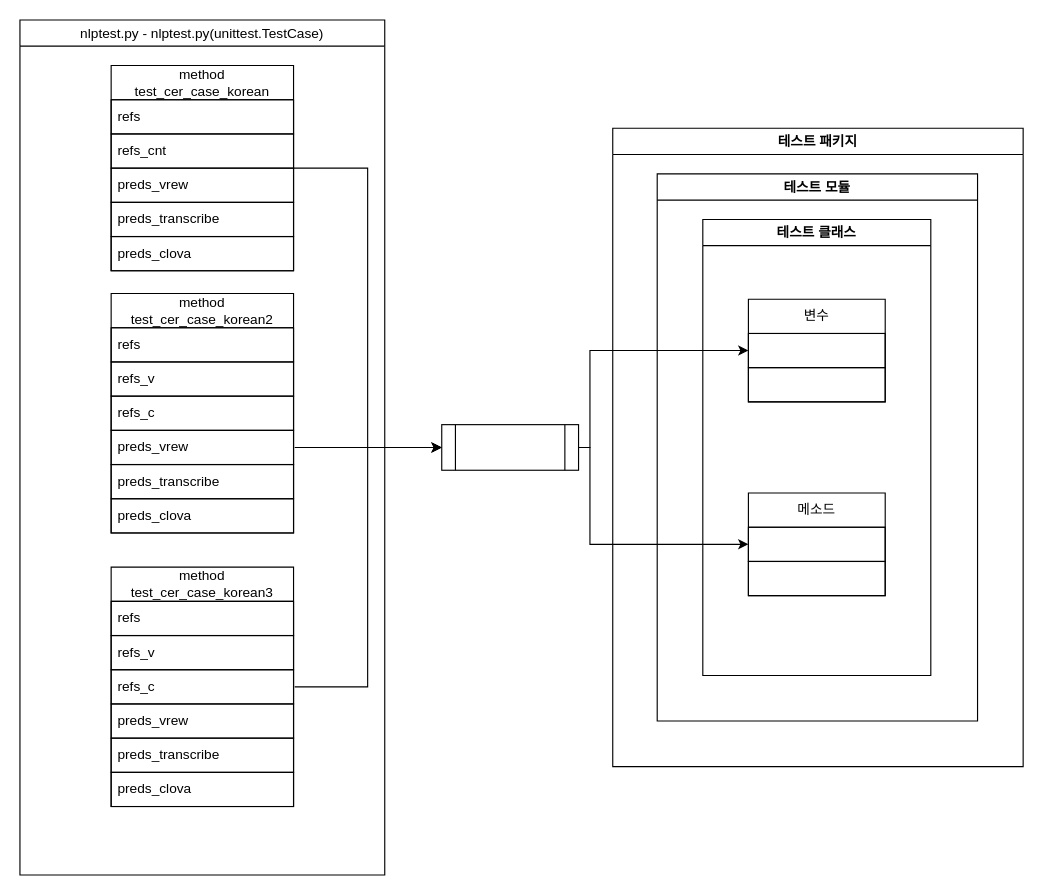
This 1043x895 diagram has some shape labels left out. Each missing label, with the centre of its shape:
long_case: pixel 816 350
shorts_case: pixel 816 384
test_long_cer_case: pixel 816 543
test_shorts_ er_case: pixel 816 578
변수 or 함수 판별: pixel 510 447
